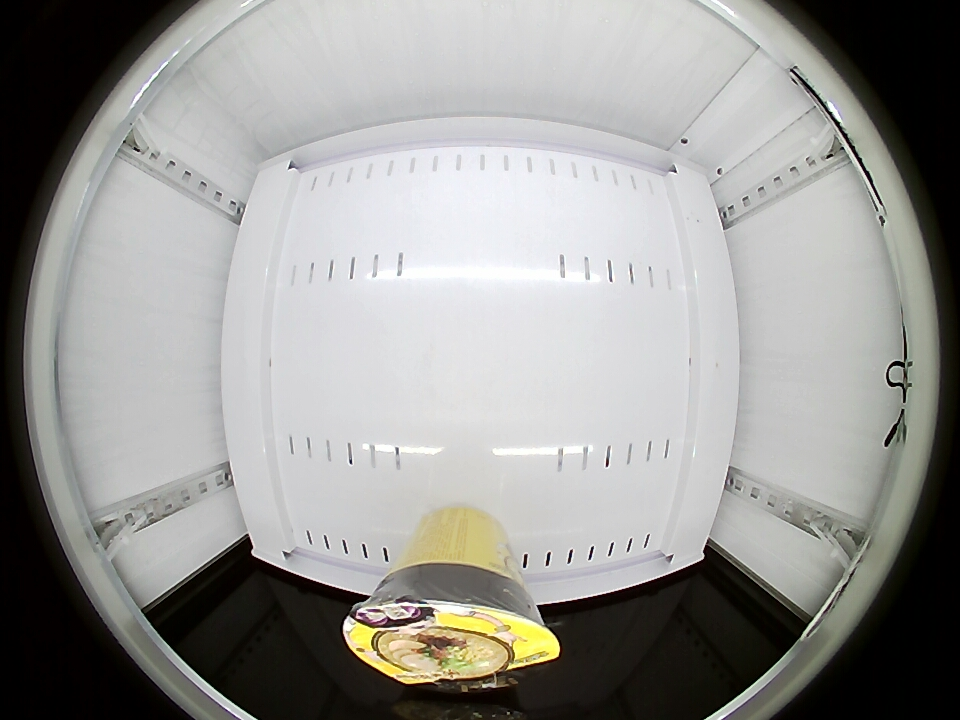tangdaren2: (343, 563, 560, 691)
